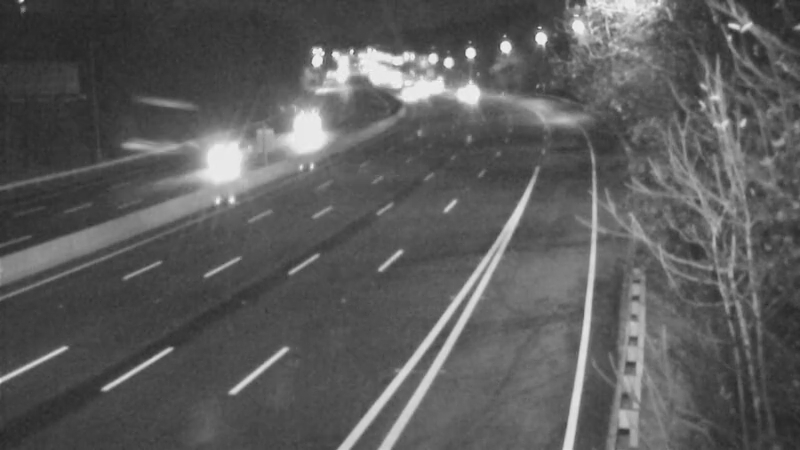vehicle: (179, 124, 259, 204), (383, 70, 433, 120), (435, 71, 485, 121), (291, 102, 341, 152)
